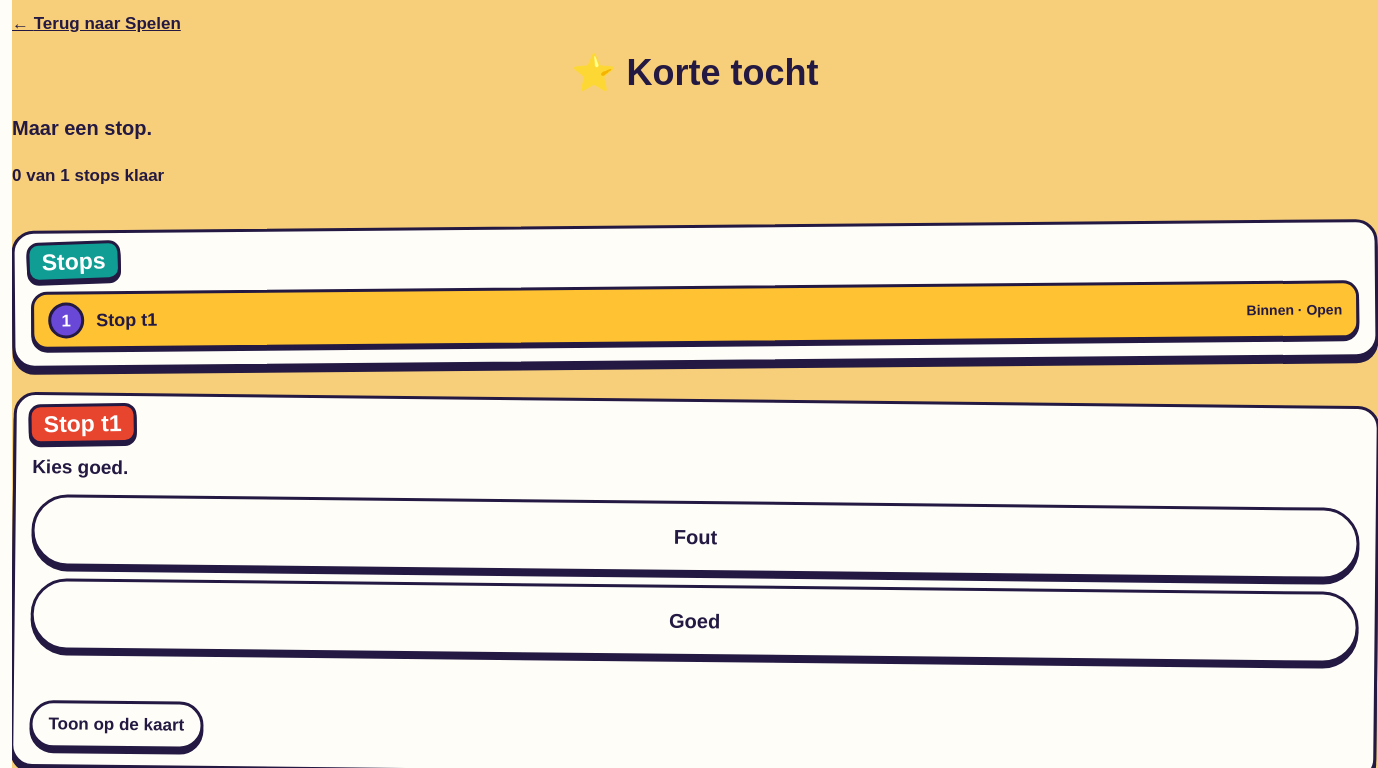
it: ExpeditionPage › alle stops klaar: badge wordt toegekend en het feestscherm met albumlink verschijnt
Click the button "Fout" at (696, 537), box [31,494,1360,580]
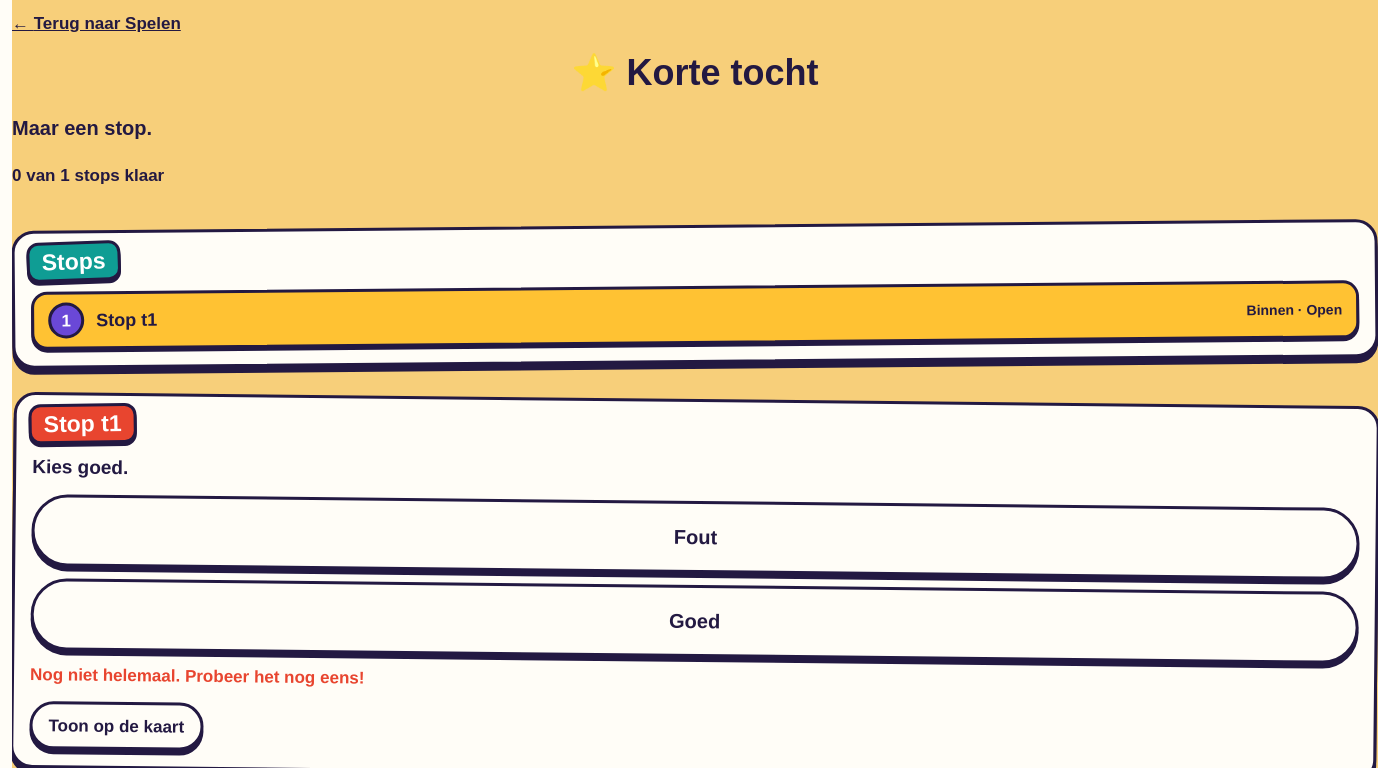
Click the button "Goed" at (695, 621), box [30,578,1359,664]
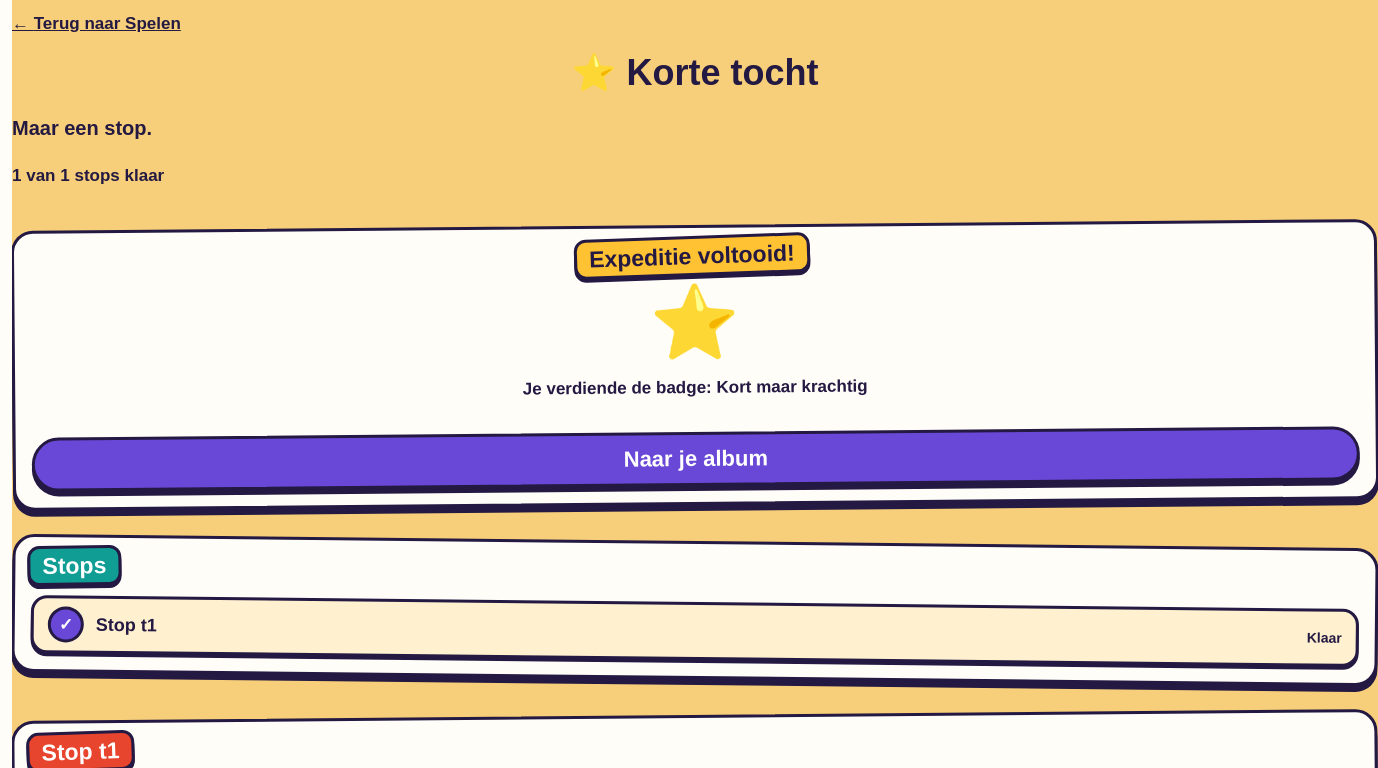
Expected: the element with test id "ex-party" shows "Kort maar krachtig", [716,377,868,397]
